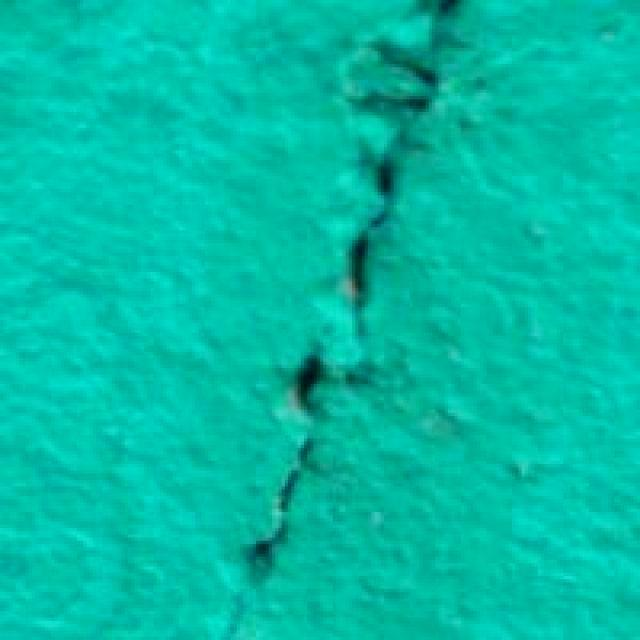crack: (200, 0, 486, 640)
